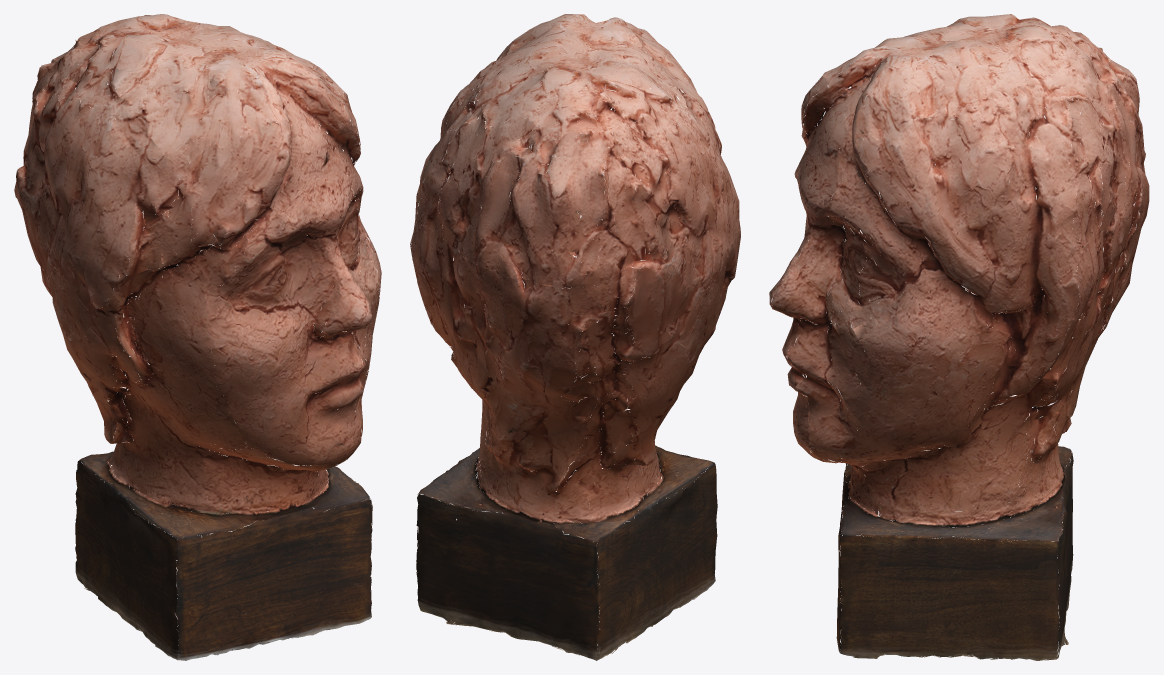
File: misun_low.glb
3 views of the same model, side by side, from view 1: azimuth 30°, elevation 25°; view 2: azimuth 150°, elevation 25°; view 3: azimuth 270°, elevation 25° (orthographic).
Parts seen in each view (by area): view 1: Mesh_0_Part_0; view 2: Mesh_0_Part_0; view 3: Mesh_0_Part_0.
Part boxes in pixels (x1,y1,x2,y2): Mesh_0_Part_0: (14, 14, 381, 660); Mesh_0_Part_0: (410, 14, 740, 660); Mesh_0_Part_0: (769, 14, 1149, 660).
Bounding box in the file's own units: 14.33 × 26.88 × 16.32.
1 material, 1 textured.
